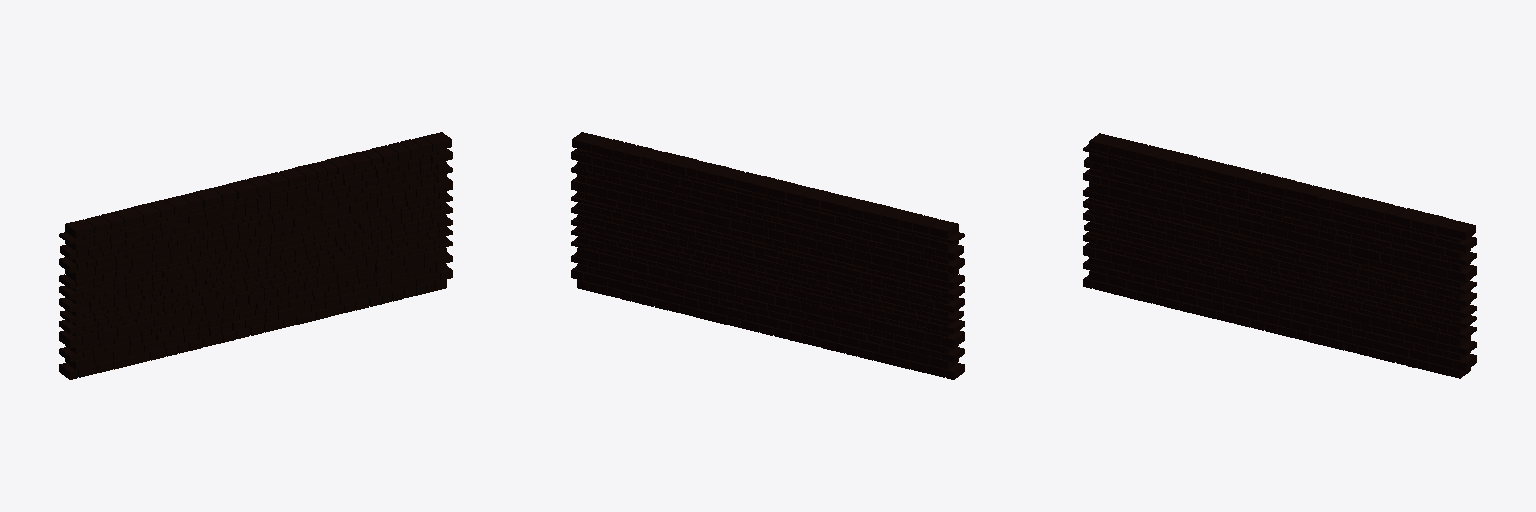
Rendered from wall2.obj.
3 renders of one model, left to right at view 1: azimuth 30°, elevation 25°; view 2: azimuth 150°, elevation 25°; view 3: azimuth 330°, elevation 25°, orthographic.
Visible parts, largest first — view 1: Wall.006; view 2: Wall.006; view 3: Wall.006.
Part boxes in pixels (x1,y1,x2,y2): Wall.006: (59, 132, 452, 379); Wall.006: (571, 132, 964, 379); Wall.006: (1083, 133, 1476, 378).
Bounding box in the file's own units: 40.51 × 14.9 × 2.1.